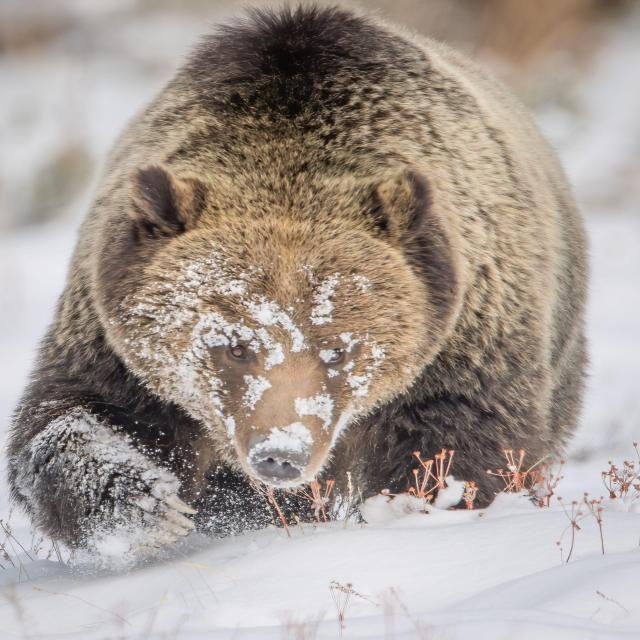Bear: (5, 1, 593, 575)
